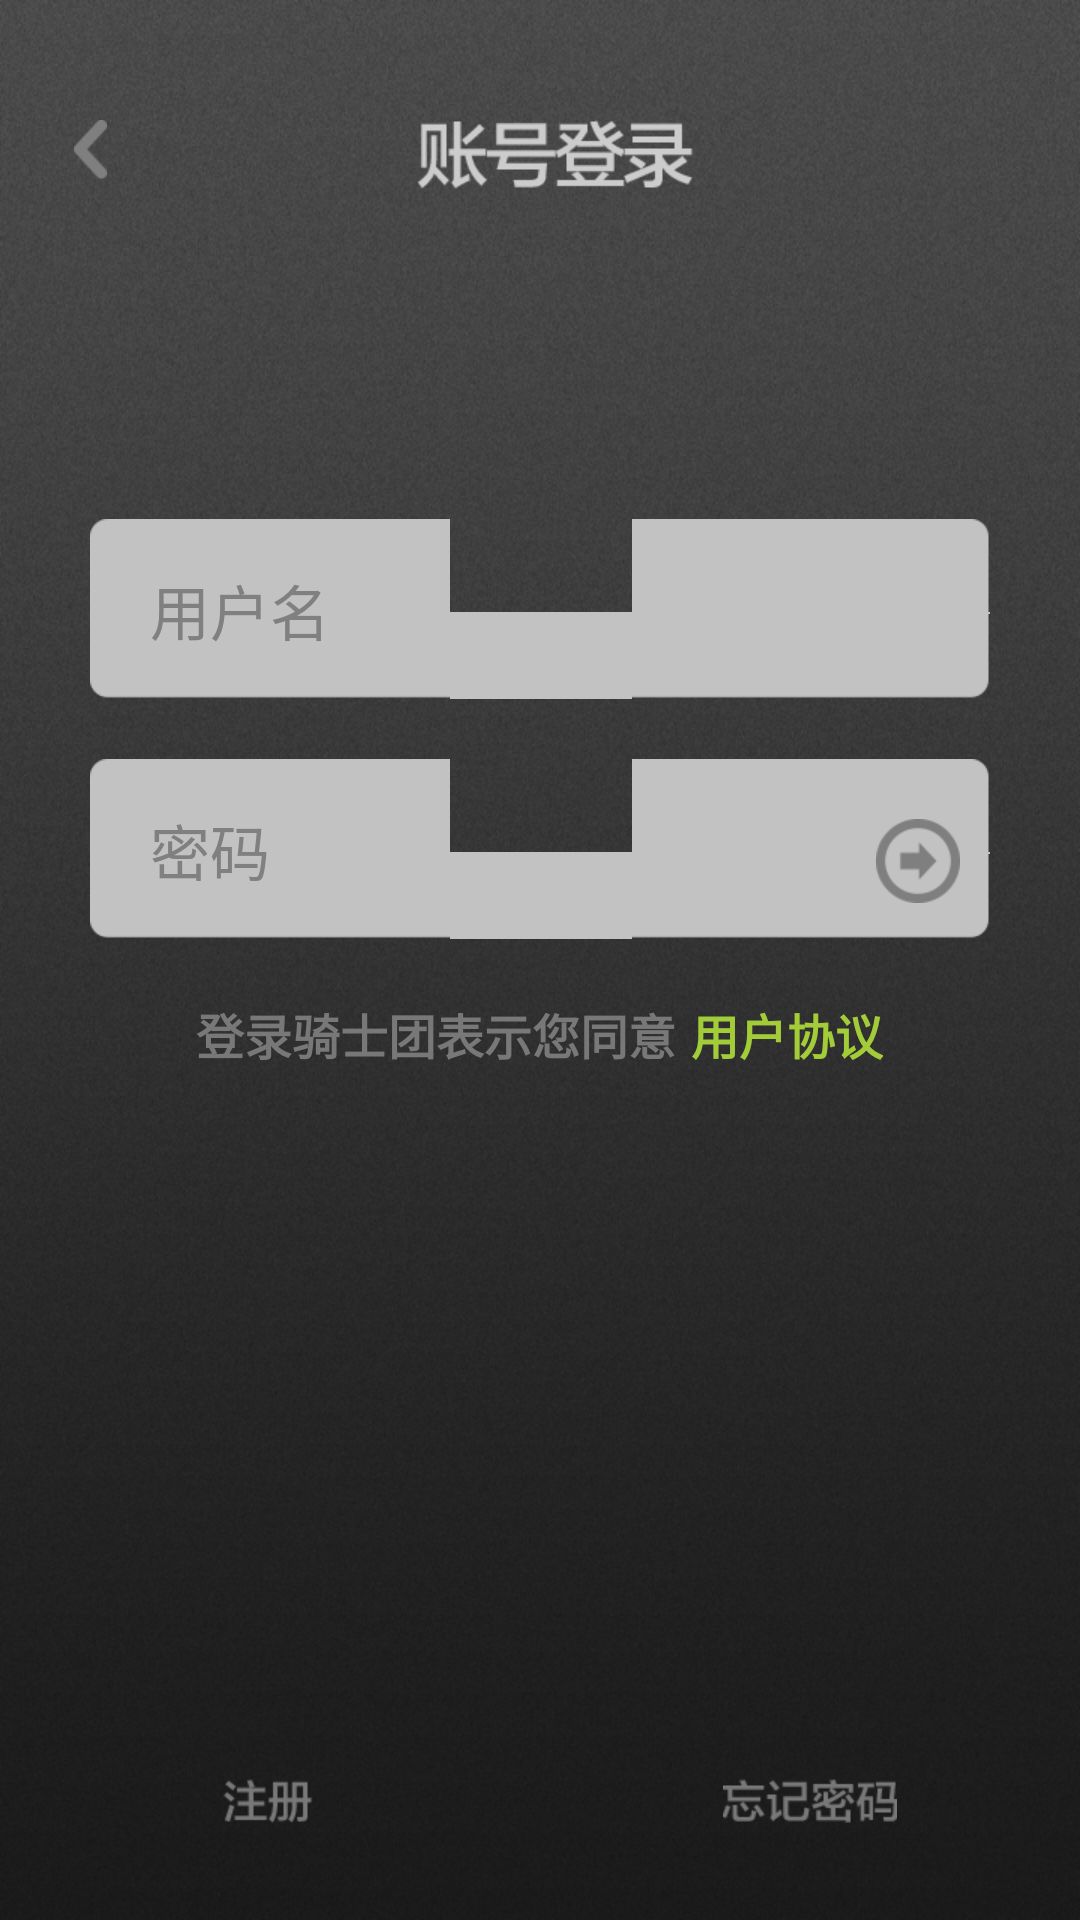

Icon bounding boxes for this 1080 × 1920 phone screenshot, format {"left": x1, "top": y1, "right": x2, "bottom": y2}:
back: {"left": 74, "top": 120, "right": 107, "bottom": 179}
enter: {"left": 876, "top": 819, "right": 960, "bottom": 903}
